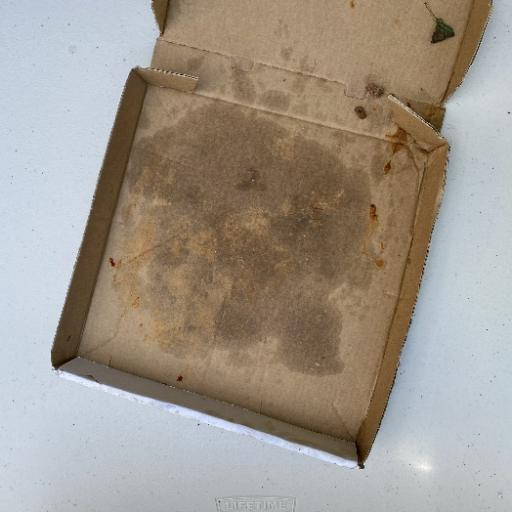Cardboard: (49, 1, 493, 470)
